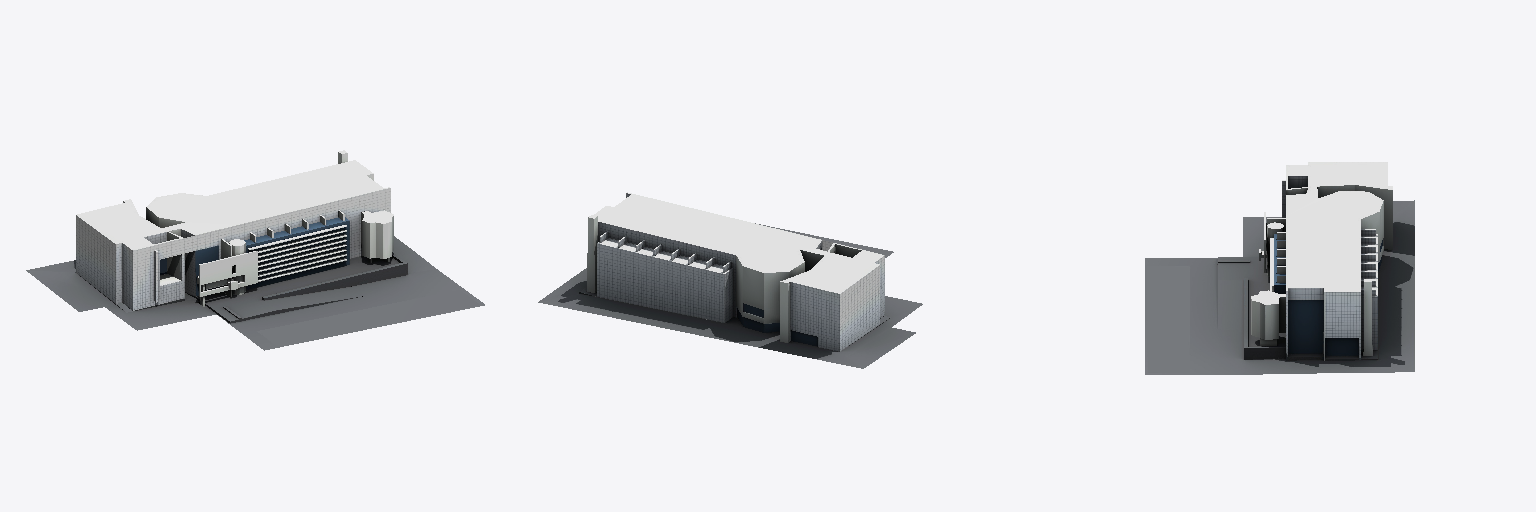
3 views of the same model, side by side, from view 1: azimuth 30°, elevation 25°; view 2: azimuth 150°, elevation 25°; view 3: azimuth 270°, elevation 25° (orthographic).
Parts seen in each view (by area): view 1: macba2_Macba; view 2: macba2_Macba; view 3: macba2_Macba.
Part boxes in pixels (x1,y1,x2,y2): macba2_Macba: (26,150,484,350); macba2_Macba: (538,192,922,368); macba2_Macba: (1145,162,1414,374).
Bounding box in the file's own units: 104 × 24.13 × 74.57.
1 materials, 1 textured.